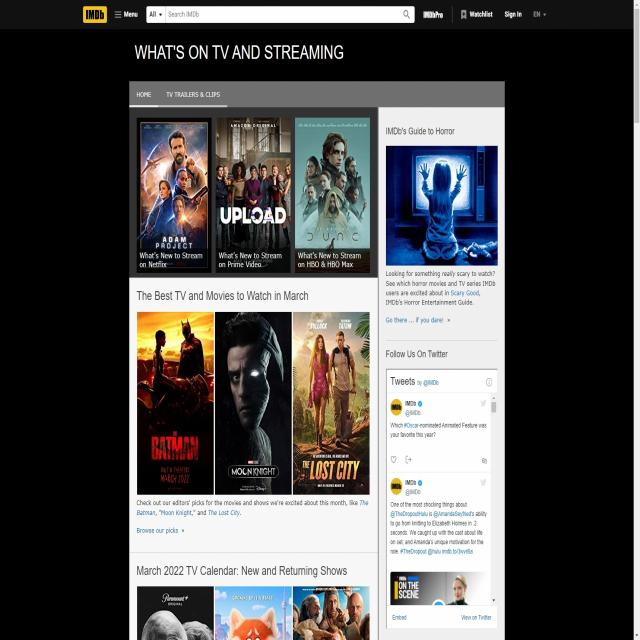menu-bar: (453, 4, 551, 24)
search: (145, 4, 416, 24)
